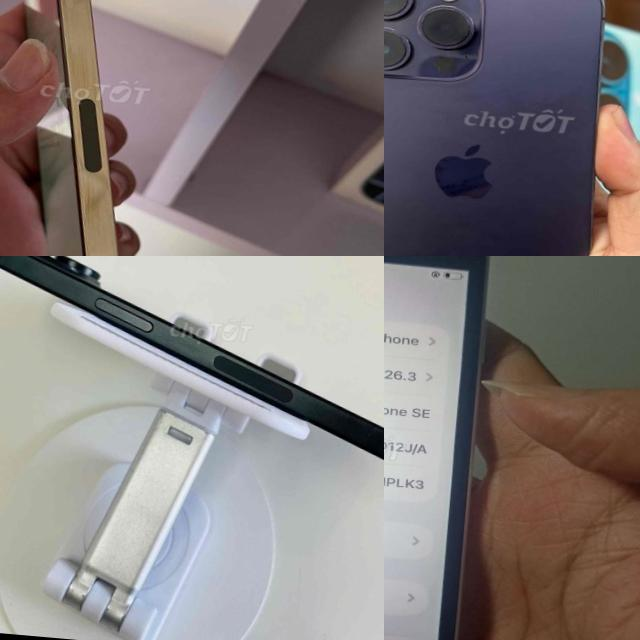gen_12_13: (0, 0, 188, 256)
gen_14: (384, 0, 636, 256)
gen_15: (0, 256, 384, 516)
gen_7_8: (384, 256, 507, 640)
